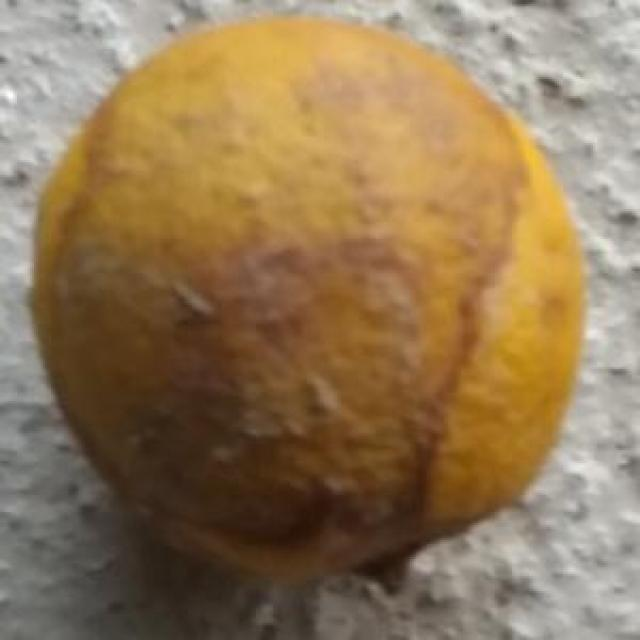lemon: (34, 14, 586, 588)
